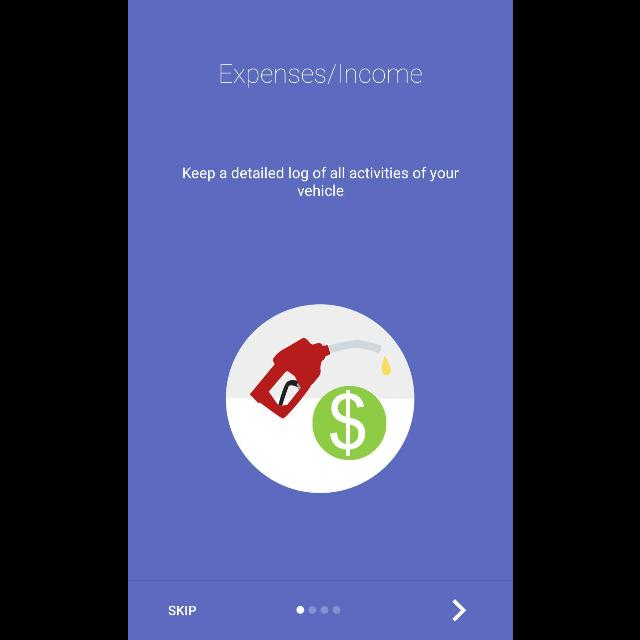icon: (450, 598, 466, 622)
image: (224, 304, 413, 493)
pageindicator: (296, 606, 340, 614)
text: (182, 167, 458, 197), (219, 64, 421, 88), (168, 606, 196, 616)
